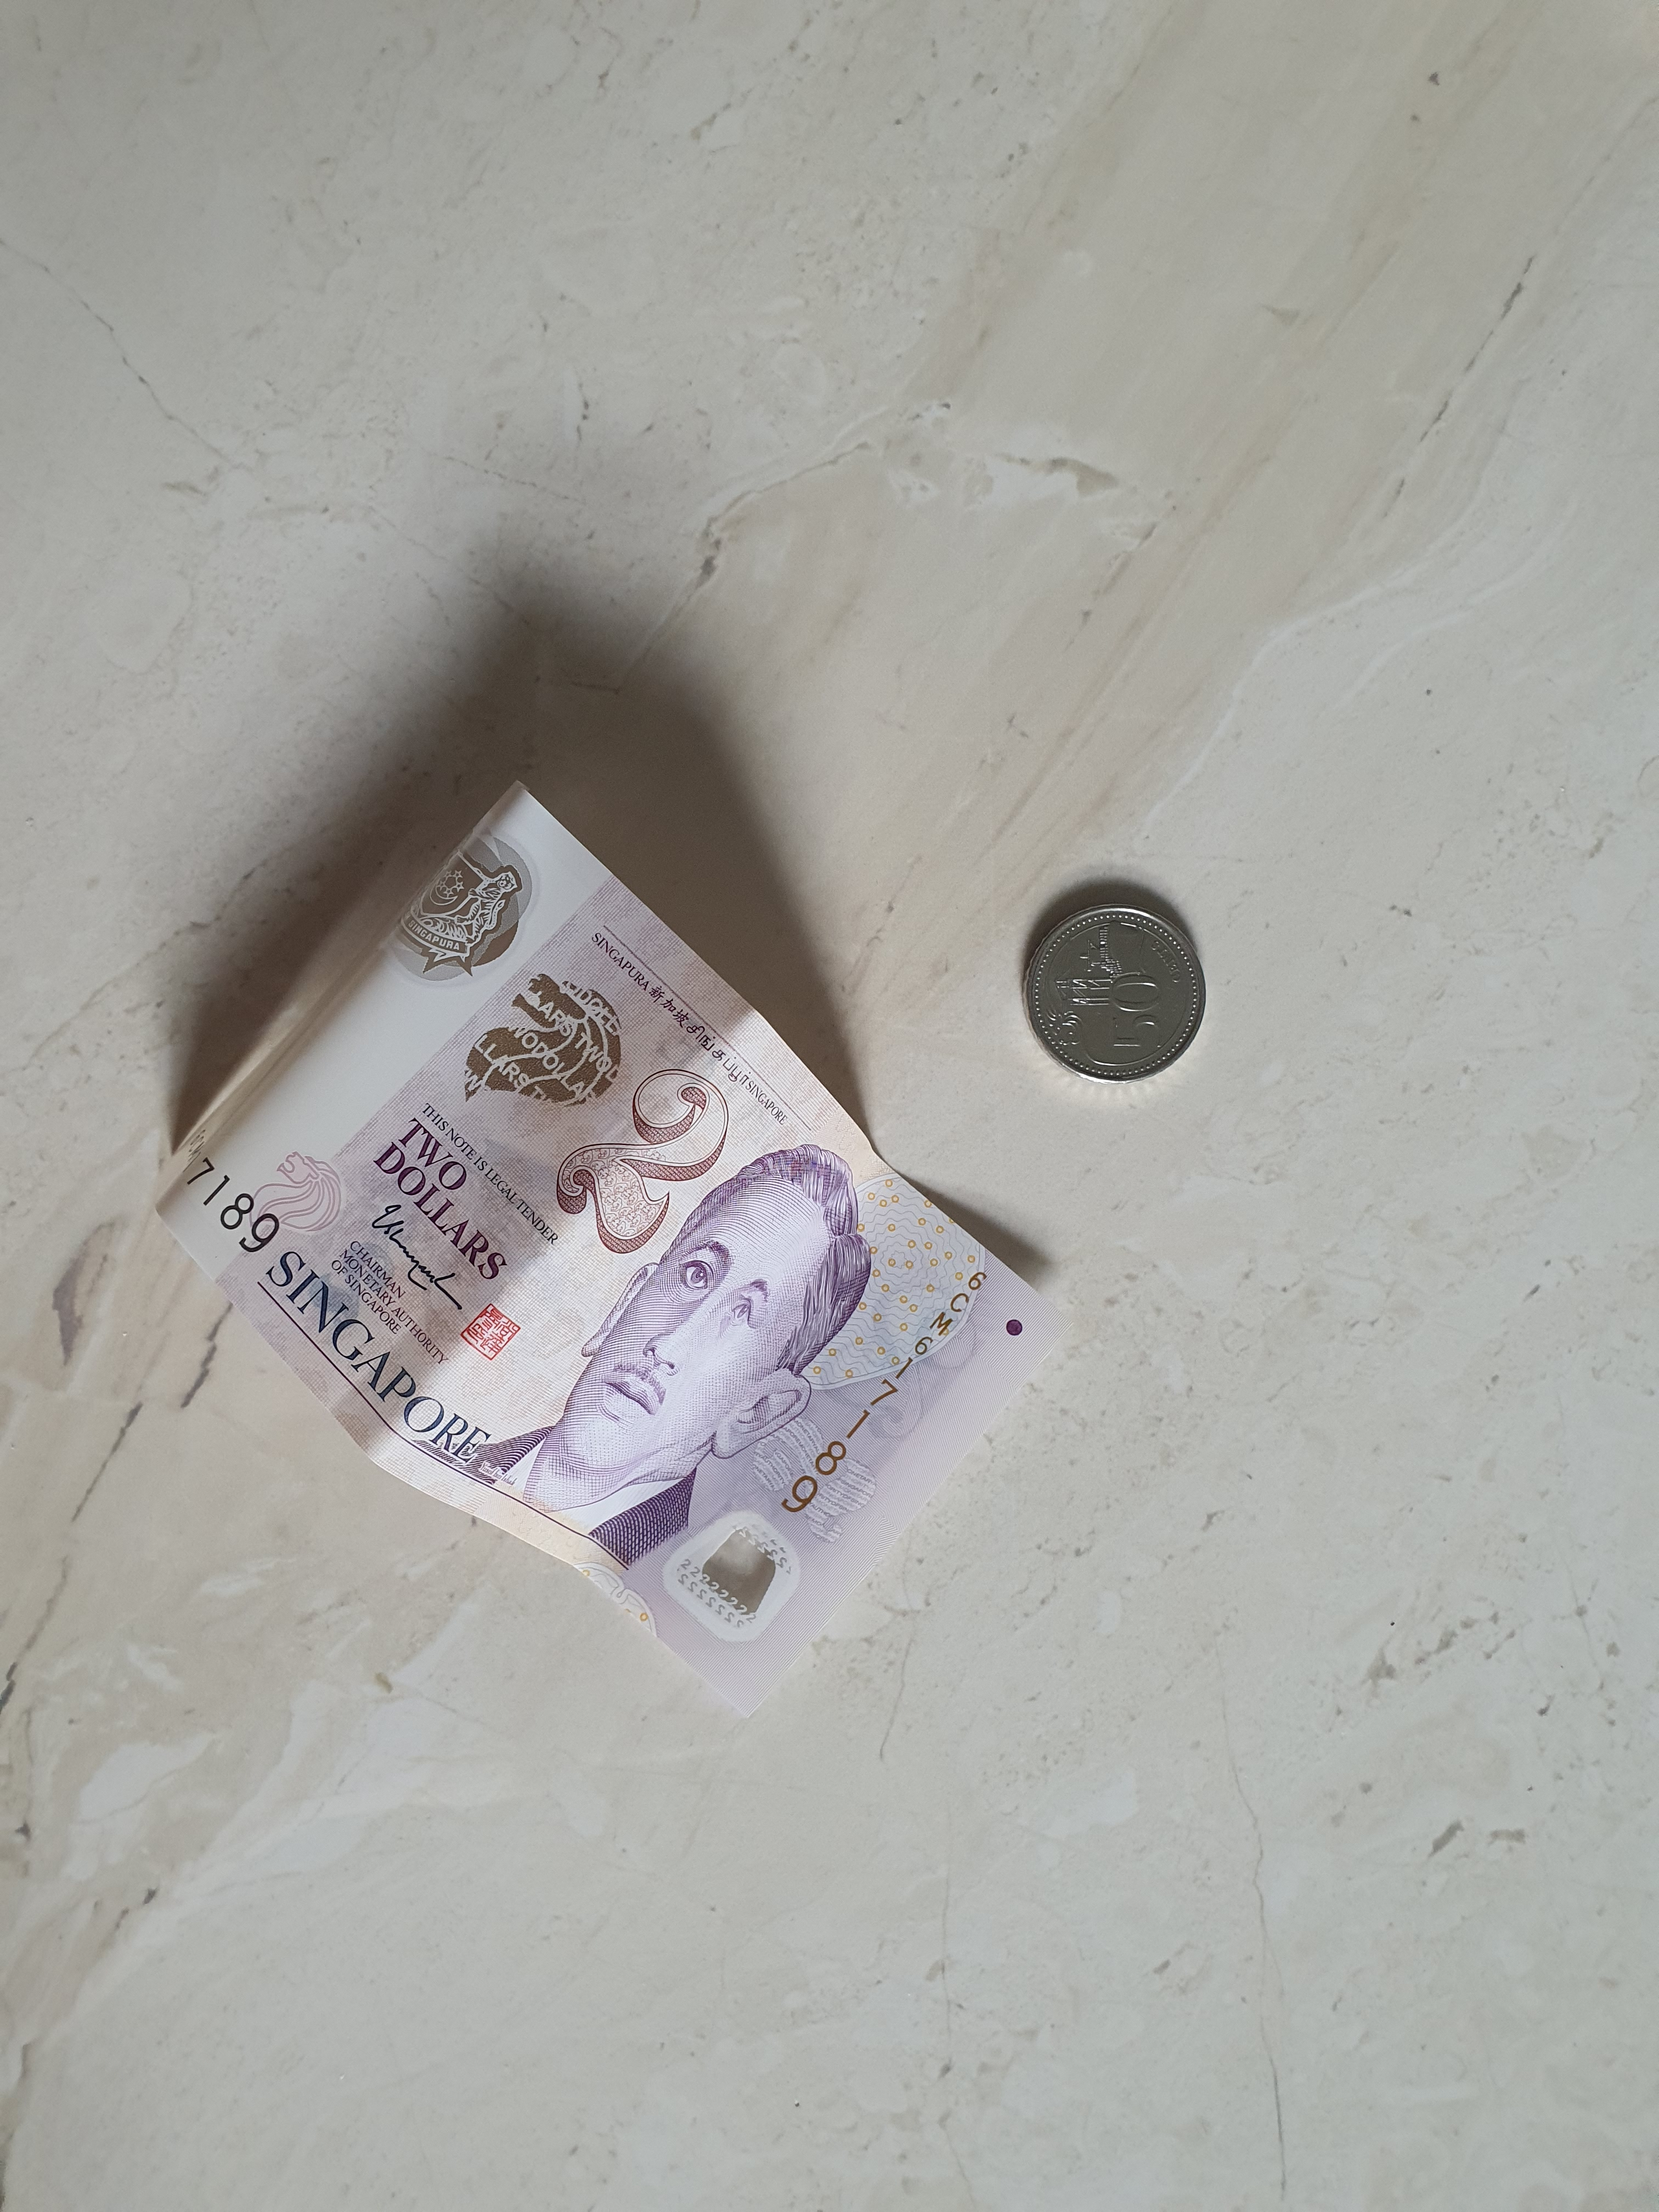$2: (157, 780, 1073, 1721)
50c: (1019, 900, 1208, 1085)
